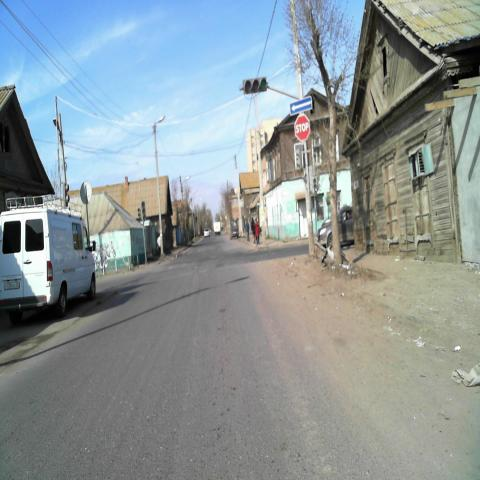2_5: (294, 114, 311, 142)
5_7_2: (290, 97, 312, 115)
